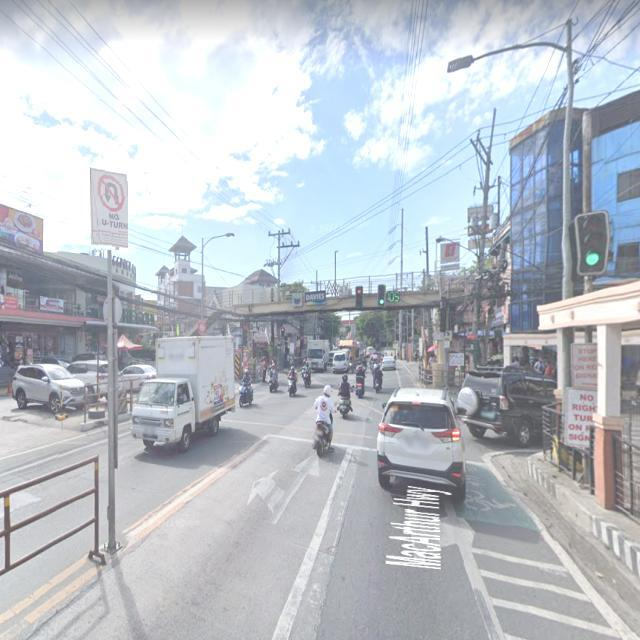no u turn: (91, 166, 128, 250)
